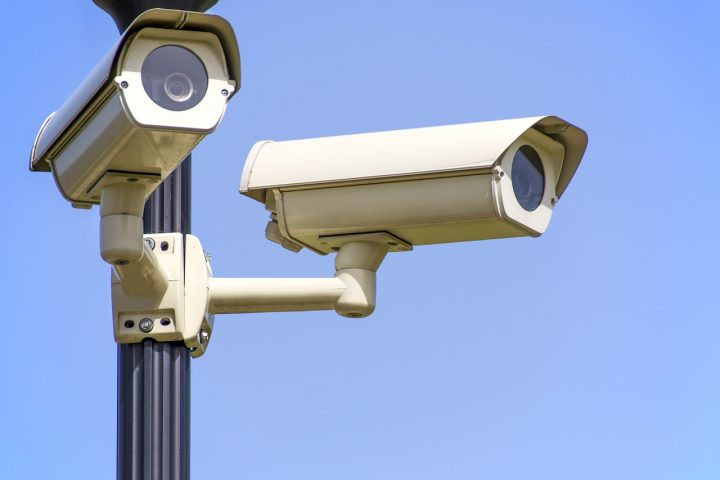CC Camera: (236, 113, 598, 259), (23, 7, 247, 210)
